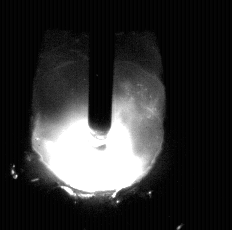arame: (89, 0, 113, 134)
poca: (31, 0, 164, 230)
